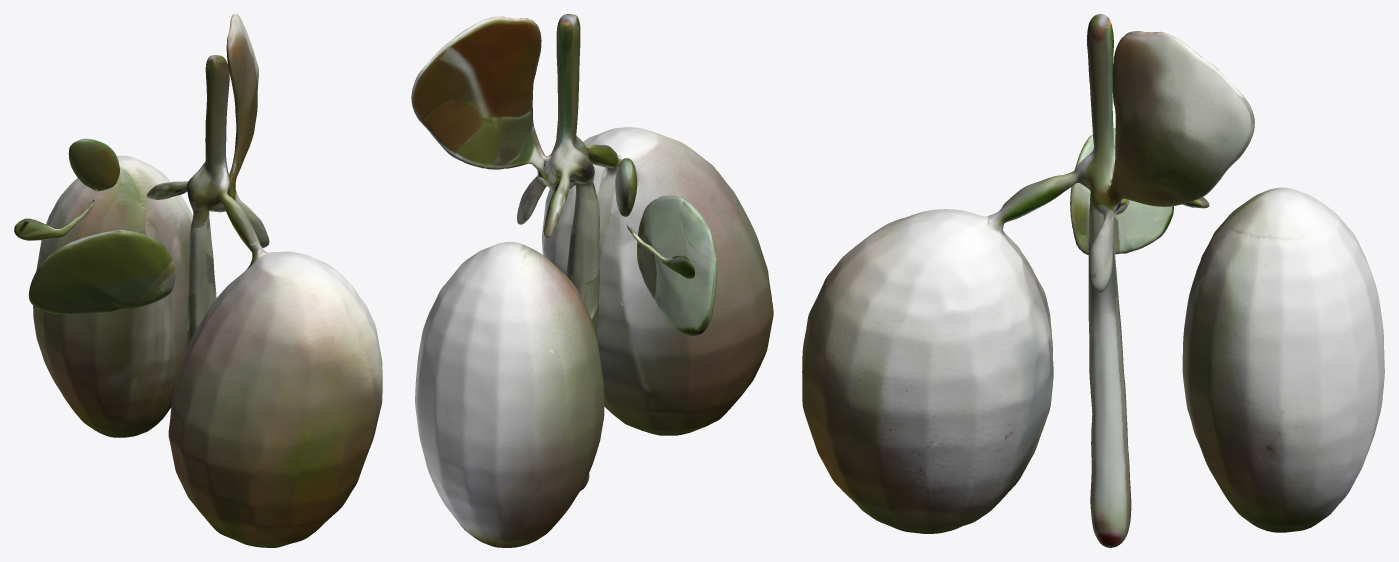
File: shrub0005_dup.gltf
The picture shows the model from 3 angles, left to right: view 1: azimuth 30°, elevation 25°; view 2: azimuth 150°, elevation 25°; view 3: azimuth 270°, elevation 25°; orthographic projection. The views are drawn at different scales.
Parts seen in each view (by area): view 1: Mesh_0.031; view 2: Mesh_0.031; view 3: Mesh_0.031.
Boxes of the visible parts, x1=… form: Mesh_0.031: x1=14, y1=14, x2=382, y2=547; Mesh_0.031: x1=411, y1=14, x2=773, y2=547; Mesh_0.031: x1=802, y1=14, x2=1384, y2=547.
Bounding box in the file's own units: 1.14 × 1.98 × 1.94.
1 material, 1 textured.
